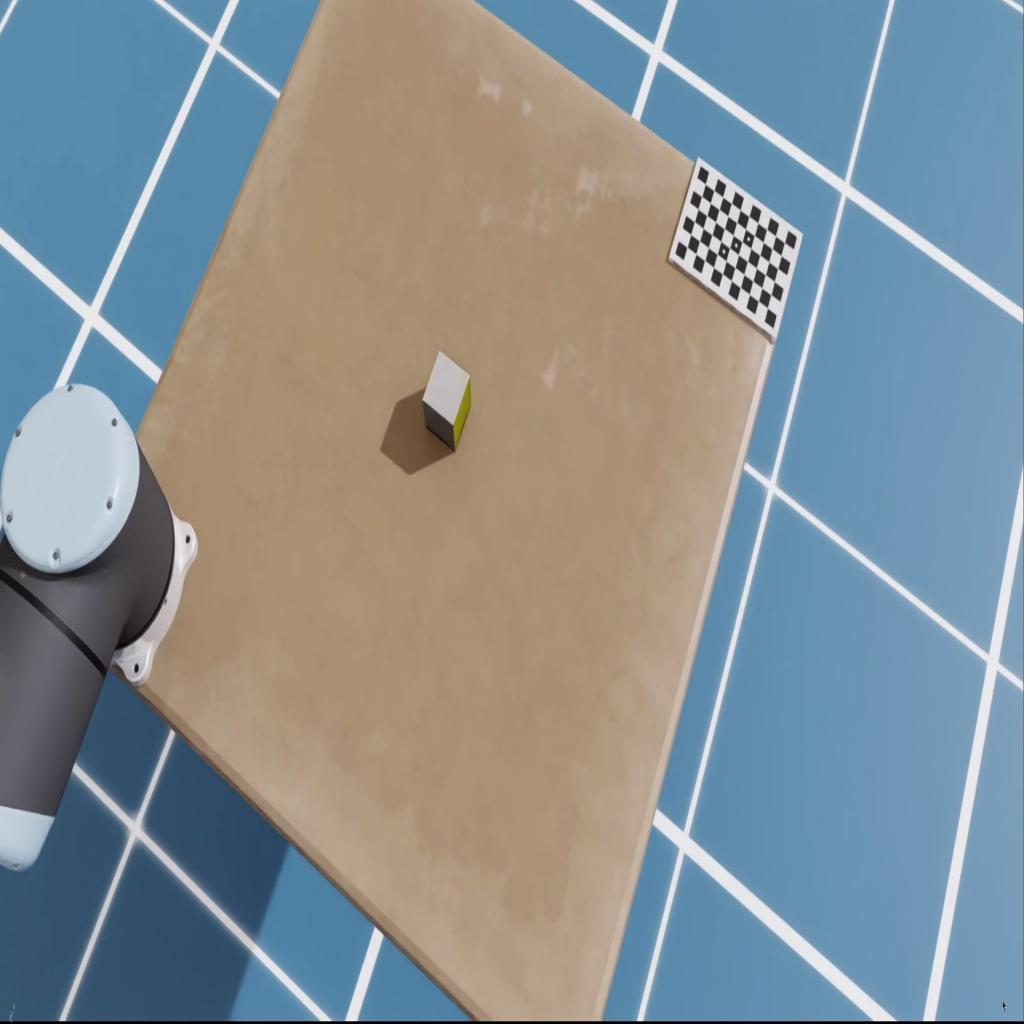Cube: (422, 348, 472, 452)
QR: (666, 155, 804, 345)
Robot: (0, 378, 197, 871)
Table: (71, 0, 803, 1023)
